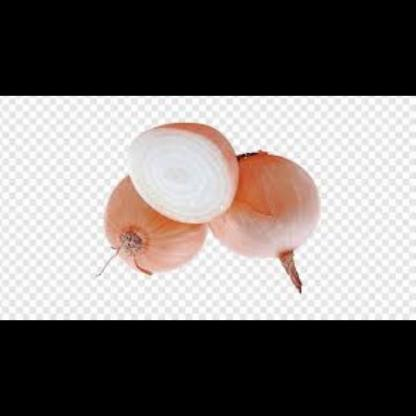onion: (205, 149, 320, 262), (125, 122, 239, 224), (102, 180, 207, 277)
